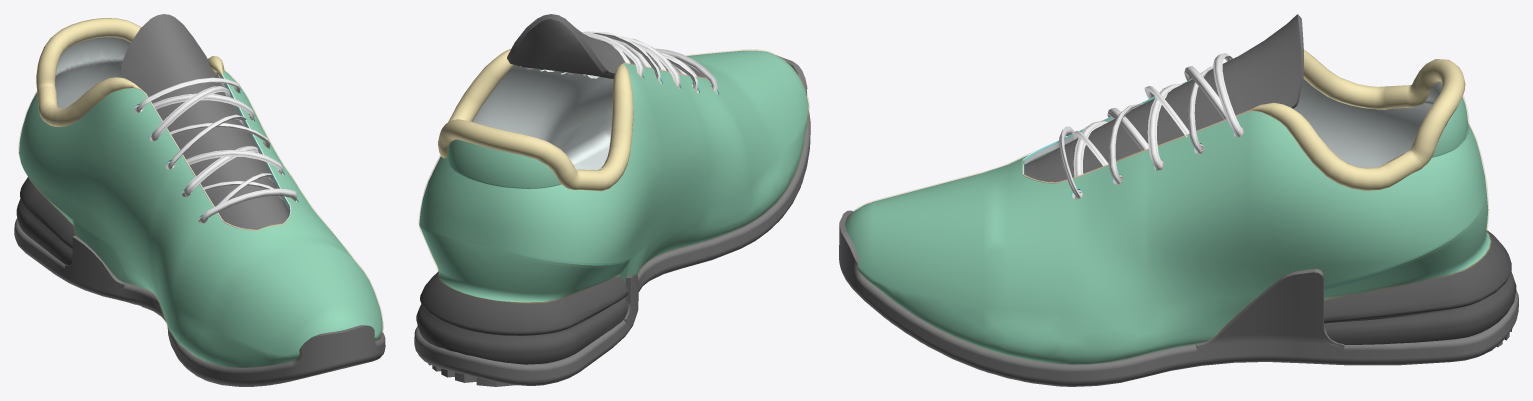
Rendered from Sneakers-B.gltf.
The picture shows the model from 3 angles, left to right: view 1: azimuth 30°, elevation 25°; view 2: azimuth 150°, elevation 25°; view 3: azimuth 270°, elevation 25°; orthographic projection. The views are drawn at different scales.
Parts seen in each view (by area): view 1: 外薄殼, 鞋皮, 上掀蓋, 鞋底-2, 鞋底, 小飾, 內側, 後飾, CloseSurface.8(8), CloseSurface.8(5), CloseSurface.8(1), CloseSurface.8(6) (+4 smaller); view 2: 外薄殼, 鞋皮, 後飾, 內側, 小飾, 鞋底-2, 鞋底, 上掀蓋, CloseSurface.8(5), CloseSurface.8(8), CloseSurface.8(7), CloseSurface.8(1); view 3: 外薄殼, 鞋皮, 鞋底, 後飾, 鞋底-2, 上掀蓋, 小飾, 內側, CloseSurface.8(8), CloseSurface.8(5), CloseSurface.8(2), CloseSurface.8(6) (+1 smaller).
Part boxes in pixels (x1,y1,x2,y2): 外薄殼: (18,69,383,367); 鞋皮: (19,70,382,367); 上掀蓋: (121,14,288,229); 鞋底-2: (14,218,384,386); 鞋底: (14,220,385,386); 小飾: (36,18,224,126); 內側: (55,37,297,230); 後飾: (16,177,75,264); CloseSurface.8(8): (136,77,254,120); CloseSurface.8(5): (199,173,297,223); CloseSurface.8(1): (151,86,230,140); CloseSurface.8(6): (168,150,283,174); 外薄殼: (418,49,809,303); 鞋皮: (419,50,808,302); 後飾: (416,271,628,364); 內側: (472,63,718,170); 小飾: (438,49,633,191); 鞋底-2: (414,56,810,386); 鞋底: (414,55,810,385); 上掀蓋: (507,14,705,78); CloseSurface.8(5): (587,48,717,93); CloseSurface.8(8): (581,32,643,78); CloseSurface.8(7): (545,36,680,87); CloseSurface.8(1): (525,31,660,82); 外薄殼: (845,95,1491,364); 鞋皮: (845,79,1490,364); 鞋底: (839,210,1518,385); 後飾: (1324,230,1516,344); 鞋底-2: (839,210,1518,386); 上掀蓋: (1024,14,1303,182); 小飾: (1249,49,1465,190); 內側: (1022,78,1441,199); CloseSurface.8(8): (1188,53,1243,152); CloseSurface.8(5): (1059,126,1122,197); CloseSurface.8(2): (1147,83,1182,168); CloseSurface.8(6): (1108,103,1143,183).
Size of the model in its own units: 23.18 by 30.05 by 58.85.
